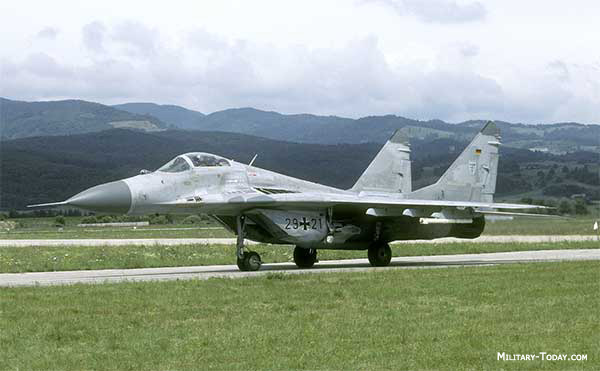Mig-29: (36, 111, 542, 300)
